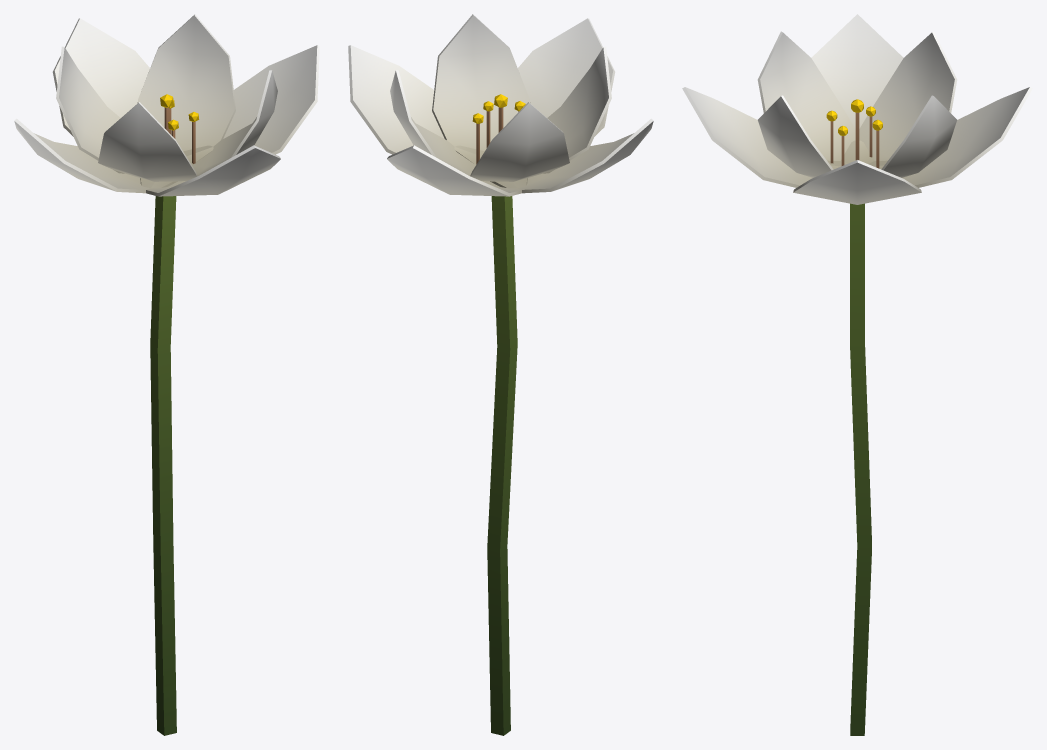
The model's file is PondPlant_04.fbx.
3 renders of one model, left to right at view 1: azimuth 30°, elevation 25°; view 2: azimuth 150°, elevation 25°; view 3: azimuth 270°, elevation 25°, orthographic.
Visible parts, largest first — view 1: PondPlant_04_LOD0; view 2: PondPlant_04_LOD0; view 3: PondPlant_04_LOD0.
Part boxes in pixels (bbox=[...]): PondPlant_04_LOD0: bbox=[14, 14, 319, 735]; PondPlant_04_LOD0: bbox=[348, 14, 653, 735]; PondPlant_04_LOD0: bbox=[682, 14, 1032, 735].
Size of what is drawn, in the model's own units: 0.2557 by 0.5383 by 0.2557.
